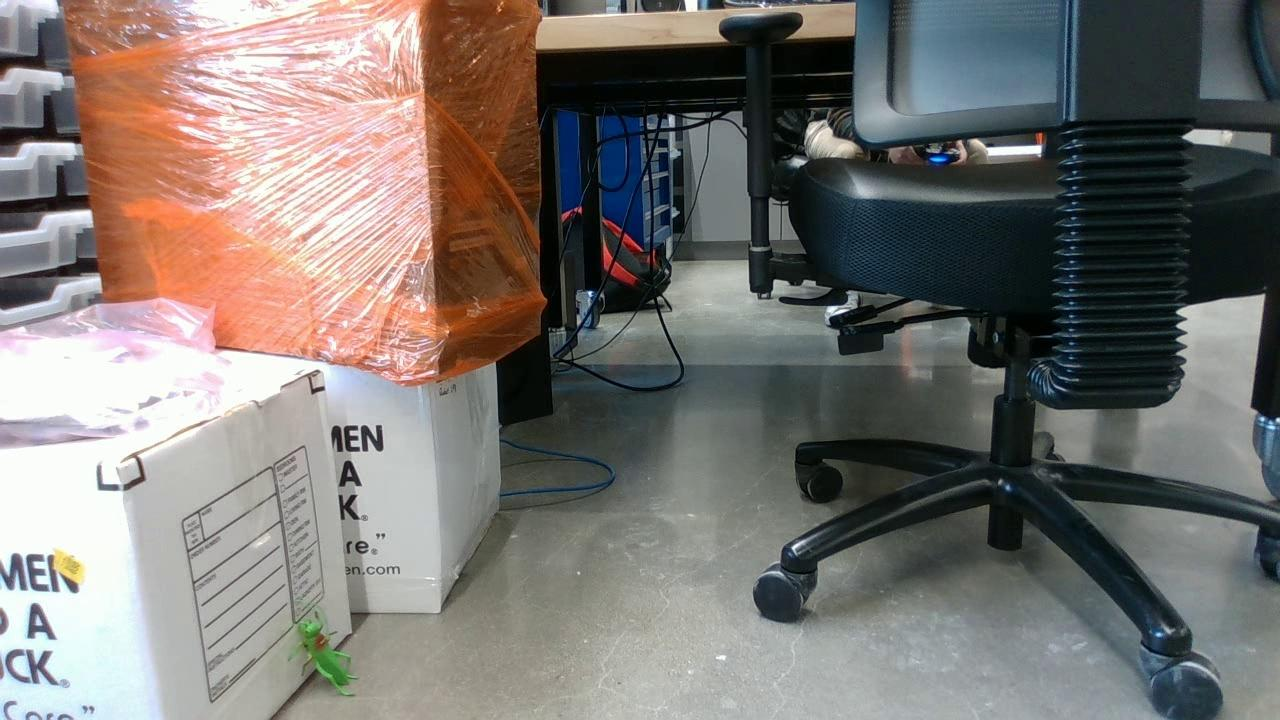grasshopper: (289, 619, 357, 695)
